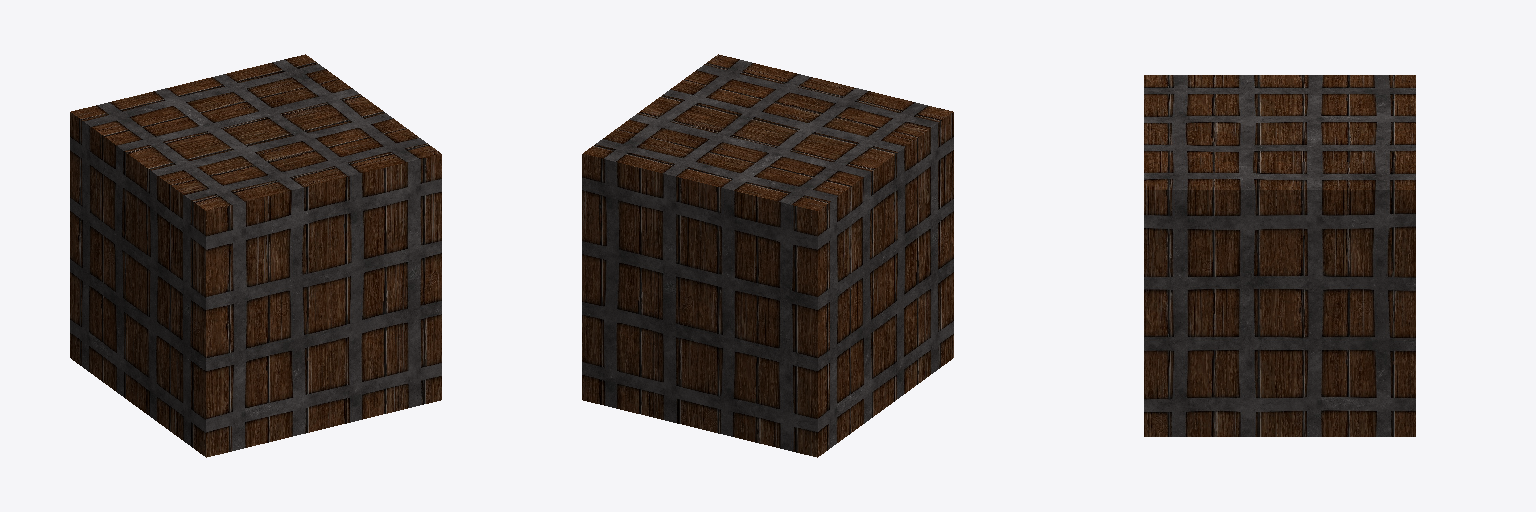
3 renders of one model, left to right at view 1: azimuth 30°, elevation 25°; view 2: azimuth 150°, elevation 25°; view 3: azimuth 270°, elevation 25°, orthographic.
Visible parts, largest first — view 1: Cube; view 2: Cube; view 3: Cube.
Part boxes in pixels (x1,y1,x2,y2): Cube: (70,54,441,457); Cube: (582,54,953,457); Cube: (1144,75,1415,436).
Size of the model in its own units: 2 by 2 by 2.
1 materials, 1 textured.